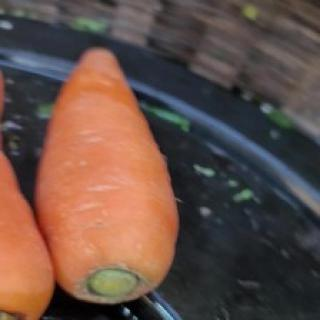carrot: (42, 42, 182, 310)
